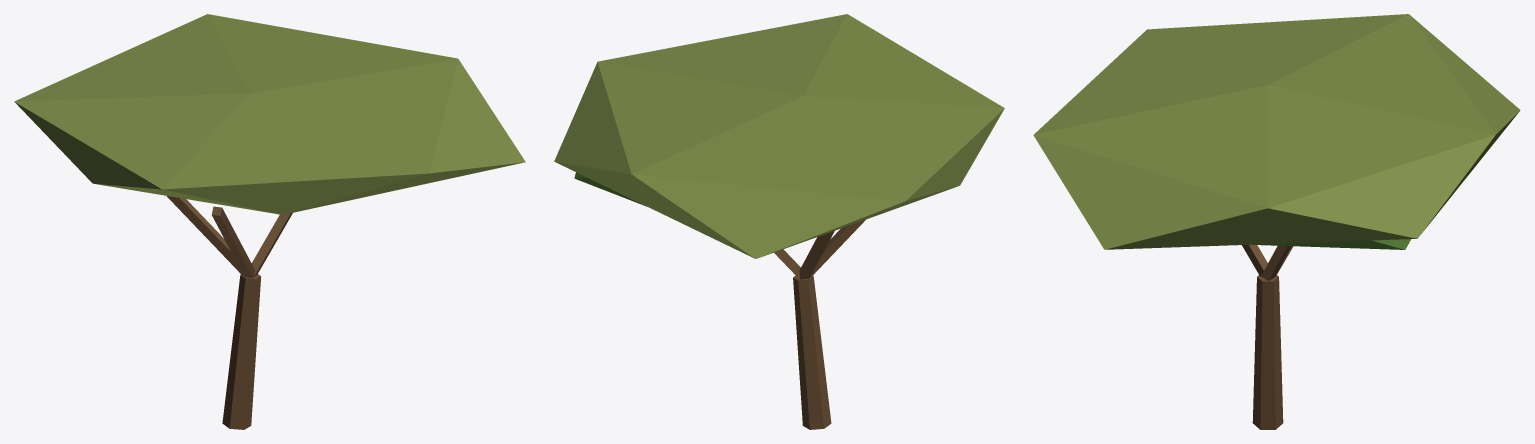
The model's file is akacia_2.glb.
3 renders of one model, left to right at view 1: azimuth 30°, elevation 25°; view 2: azimuth 150°, elevation 25°; view 3: azimuth 270°, elevation 25°, orthographic. The views are drawn at different scales.
Visible parts, largest first — view 1: akacia_2; view 2: akacia_2; view 3: akacia_2.
Boxes of the visible parts, <box> form: akacia_2: <box>14,14,525,429</box>; akacia_2: <box>554,14,1004,429</box>; akacia_2: <box>1033,14,1520,429</box>.
Bounding box in the file's own units: 5.42 × 4.51 × 5.75.
